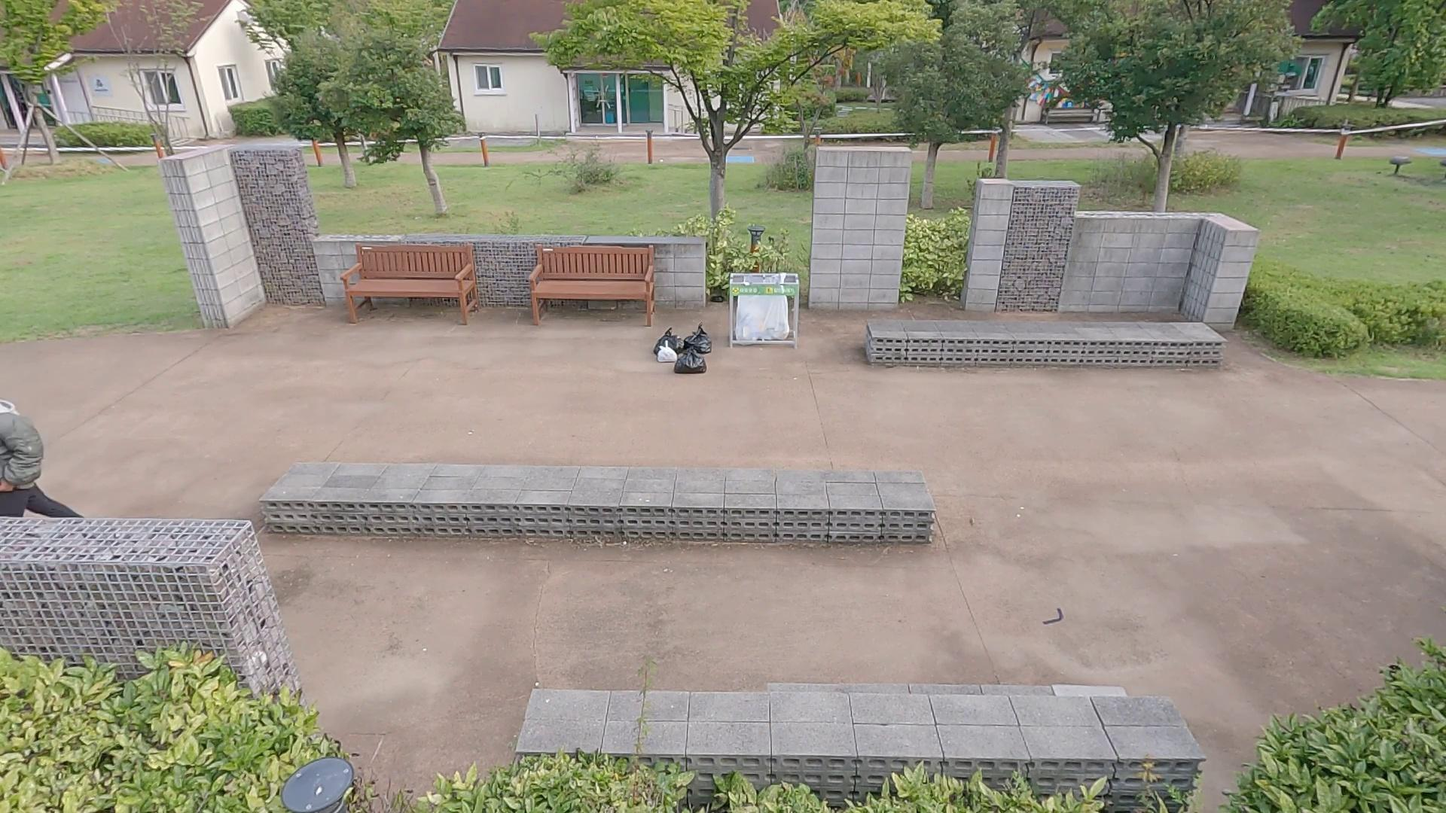trash: (673, 345, 708, 374), (683, 321, 713, 354), (652, 327, 684, 354), (655, 340, 678, 363)
